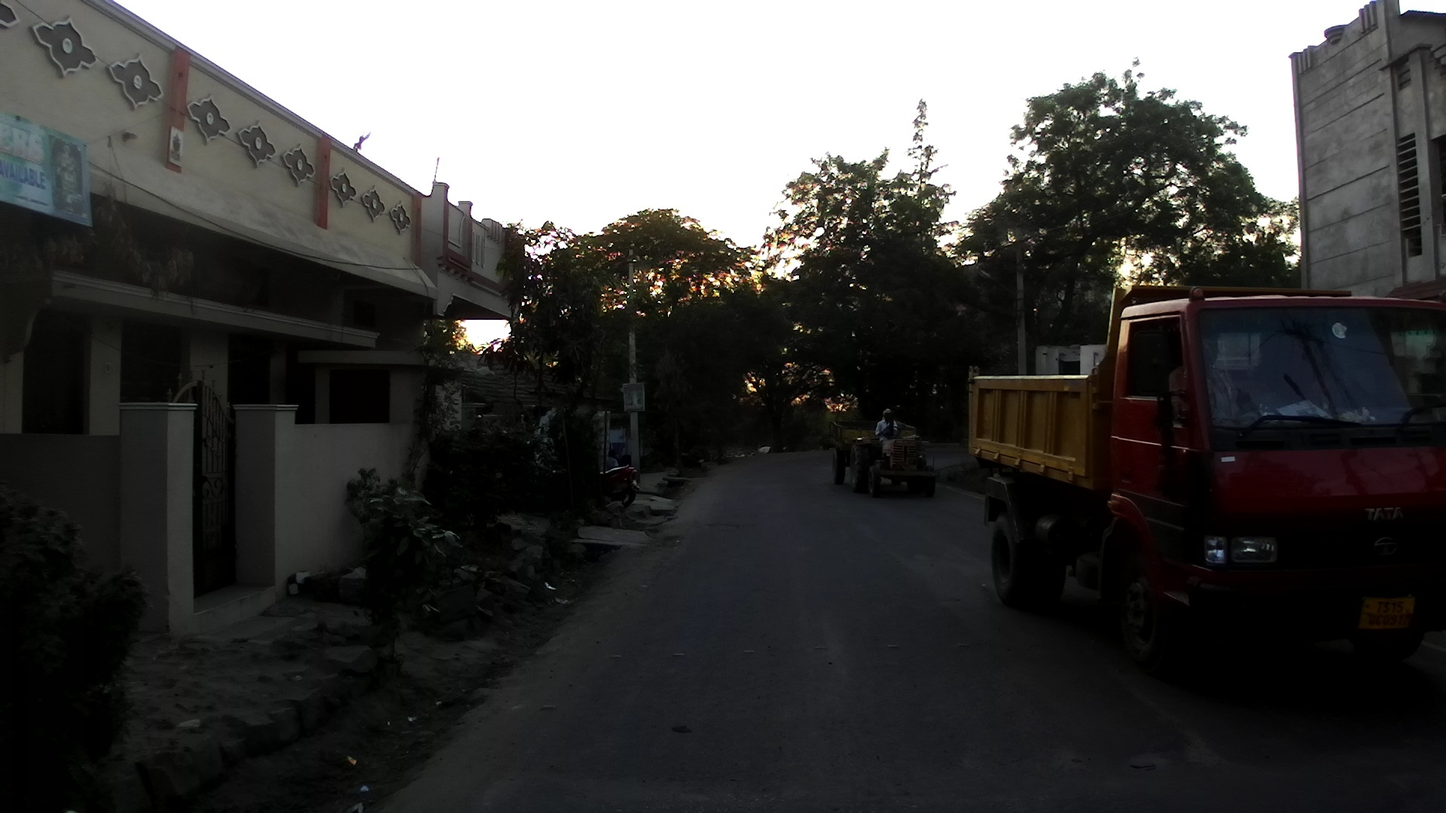motorcycle: (574, 461, 644, 514)
rider: (872, 408, 907, 464)
truck: (965, 285, 1446, 682)
vehicle fallback: (830, 418, 939, 498)
